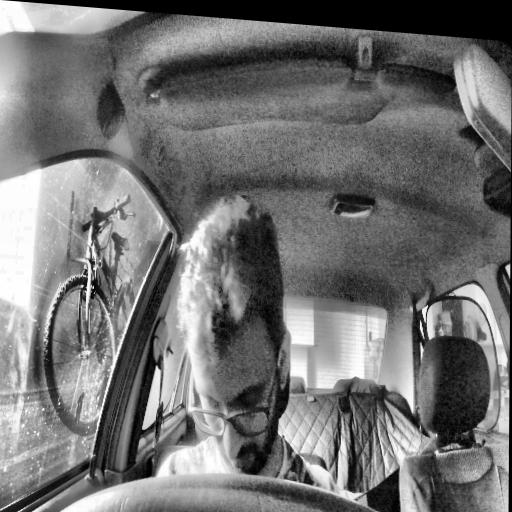drowsy: (173, 191, 293, 487)
